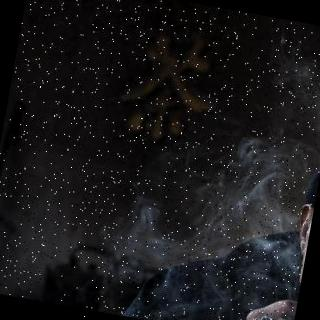smoke: (136, 129, 308, 293), (269, 41, 320, 133)
